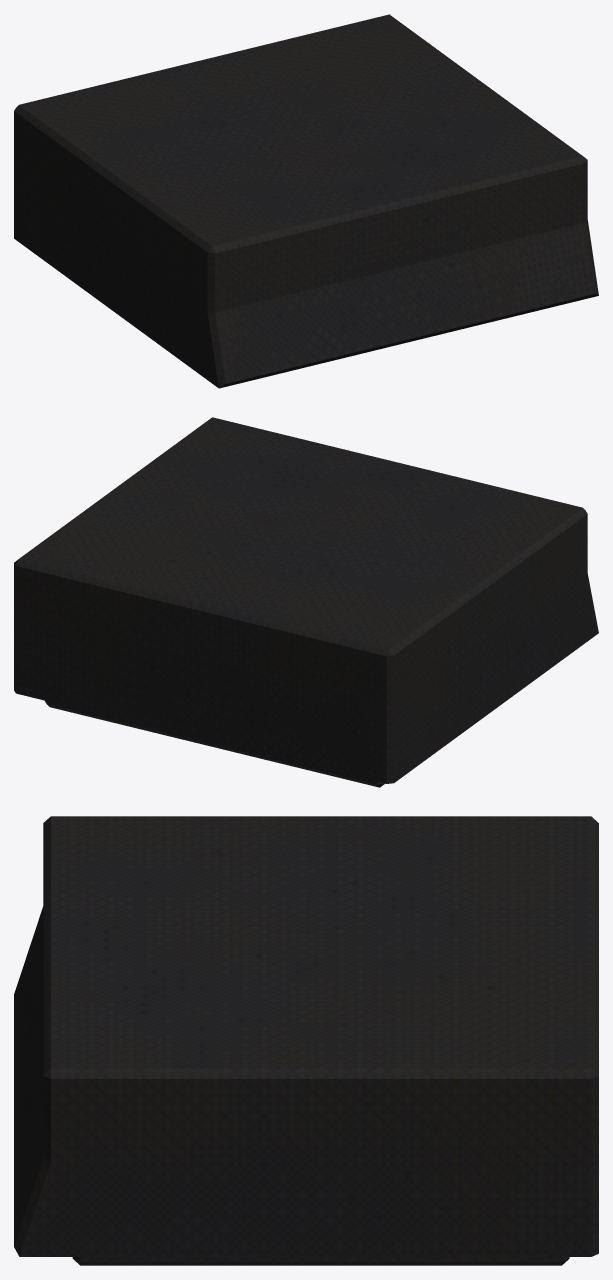
The model's file is VCR.fbx.
The picture shows the model from 3 angles, top to bottom: view 1: azimuth 30°, elevation 25°; view 2: azimuth 150°, elevation 25°; view 3: azimuth 270°, elevation 25°; orthographic projection. The views are drawn at different scales.
Visible parts, largest first — view 1: VCR; view 2: VCR; view 3: VCR.
Part boxes in pixels (box(x1,y1,x2,y2)): VCR: box(14, 14, 598, 388); VCR: box(14, 417, 598, 787); VCR: box(14, 816, 598, 1265).
Bounding box in the file's own units: 0.3962 × 0.1503 × 0.3782.
Materials: 1 (1 with a texture image).
